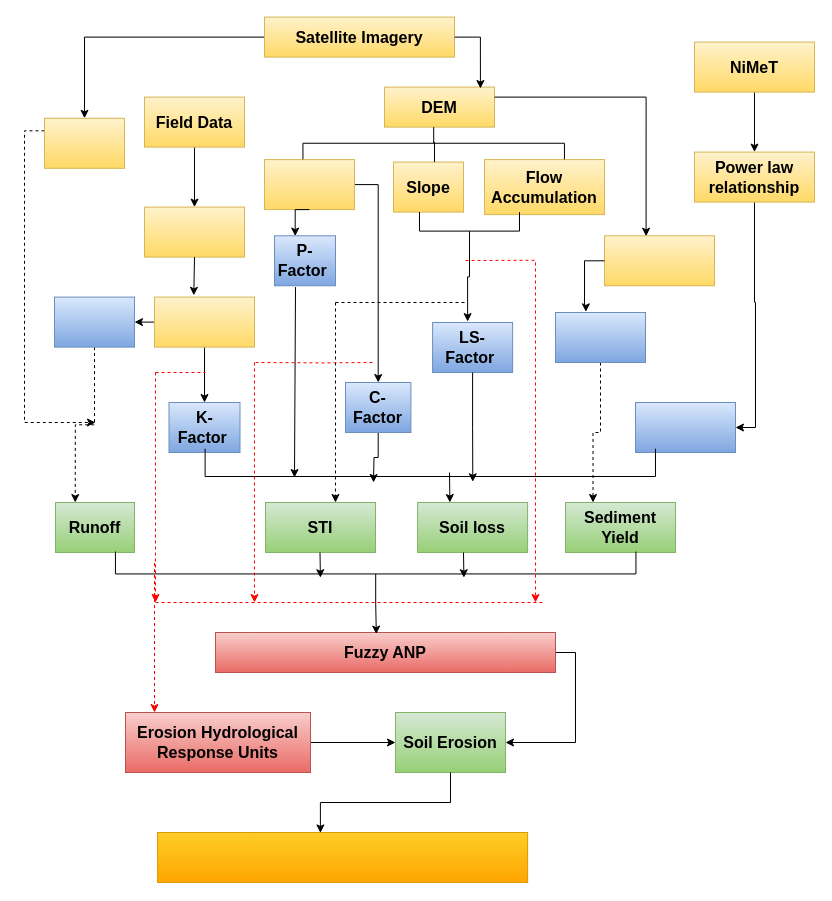
This 832x901 diagram has some shape labels left out. The centre of each missing label's shape, as x and y in pixels:
CHIRPS Rainfall: pixel 84 142
Curve number: pixel 94 321
Erosivity (R): pixel 685 427
LULC: pixel 309 184
Sediment ratio: pixel 600 337
Soil class: pixel 204 321
Soil Erosion Susceptibility Assessment: pixel 342 857
Soil Sample: pixel 194 231
Travel Time: pixel 659 260
